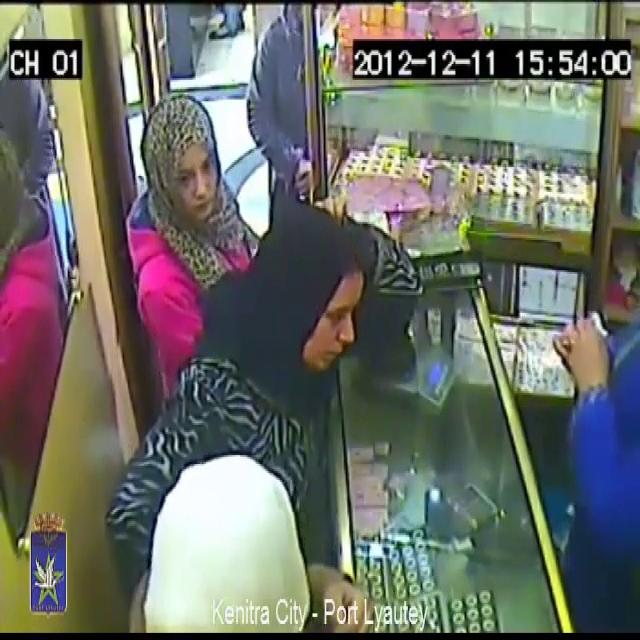Product: (562, 298, 610, 369)
normal: (127, 405, 344, 640), (144, 50, 256, 315), (250, 204, 382, 420)
shoplifting: (552, 217, 640, 612)
